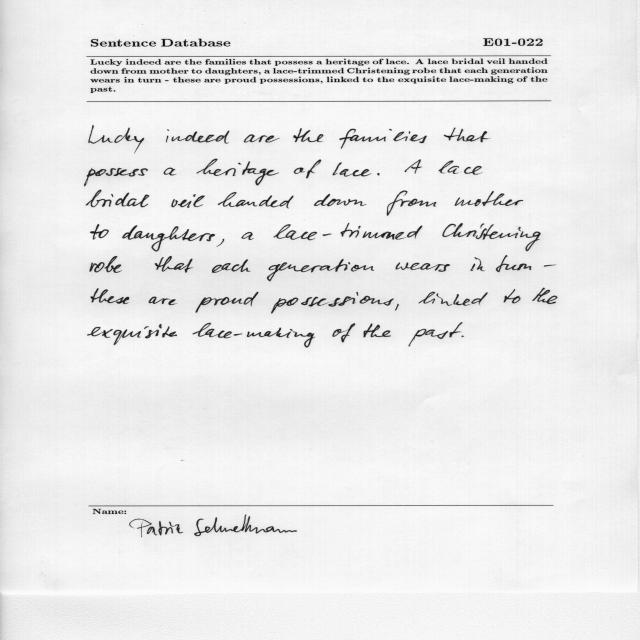word: (193, 323, 315, 348), (442, 223, 541, 251), (271, 292, 394, 314), (274, 223, 423, 240), (122, 225, 215, 252), (267, 259, 374, 281), (197, 159, 279, 186), (88, 324, 177, 345), (339, 129, 427, 149), (89, 125, 145, 154), (196, 292, 259, 313), (409, 323, 463, 347), (387, 190, 436, 216), (218, 192, 293, 208), (84, 168, 148, 186), (86, 190, 149, 207), (455, 191, 523, 206), (419, 292, 488, 306), (166, 129, 230, 144), (444, 128, 490, 143), (439, 160, 482, 175), (155, 256, 192, 273), (314, 194, 366, 206), (91, 288, 129, 304), (496, 256, 531, 273), (333, 162, 372, 177), (90, 256, 122, 273), (396, 262, 450, 272), (212, 259, 250, 273), (294, 160, 321, 179), (171, 194, 205, 208), (333, 324, 356, 343), (294, 128, 324, 142), (533, 288, 558, 304), (364, 324, 391, 338), (244, 134, 280, 143), (90, 224, 109, 240), (404, 159, 422, 174), (504, 289, 521, 303), (149, 297, 178, 305), (470, 258, 485, 272), (163, 168, 177, 176), (242, 232, 254, 240), (217, 239, 225, 247), (544, 265, 556, 267), (395, 304, 399, 310), (377, 173, 380, 175), (462, 336, 464, 337)
